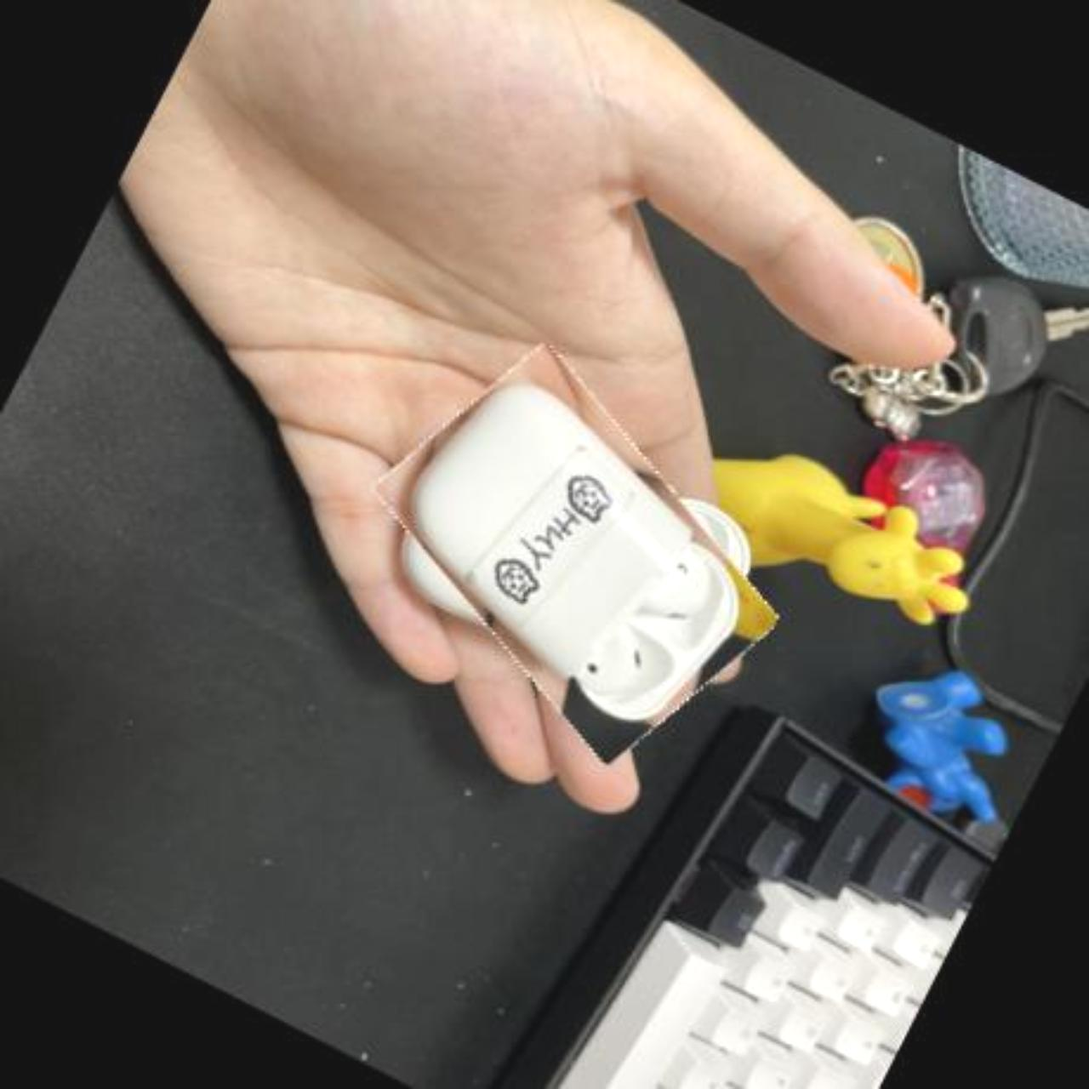AirPods: (336, 337, 818, 774)
